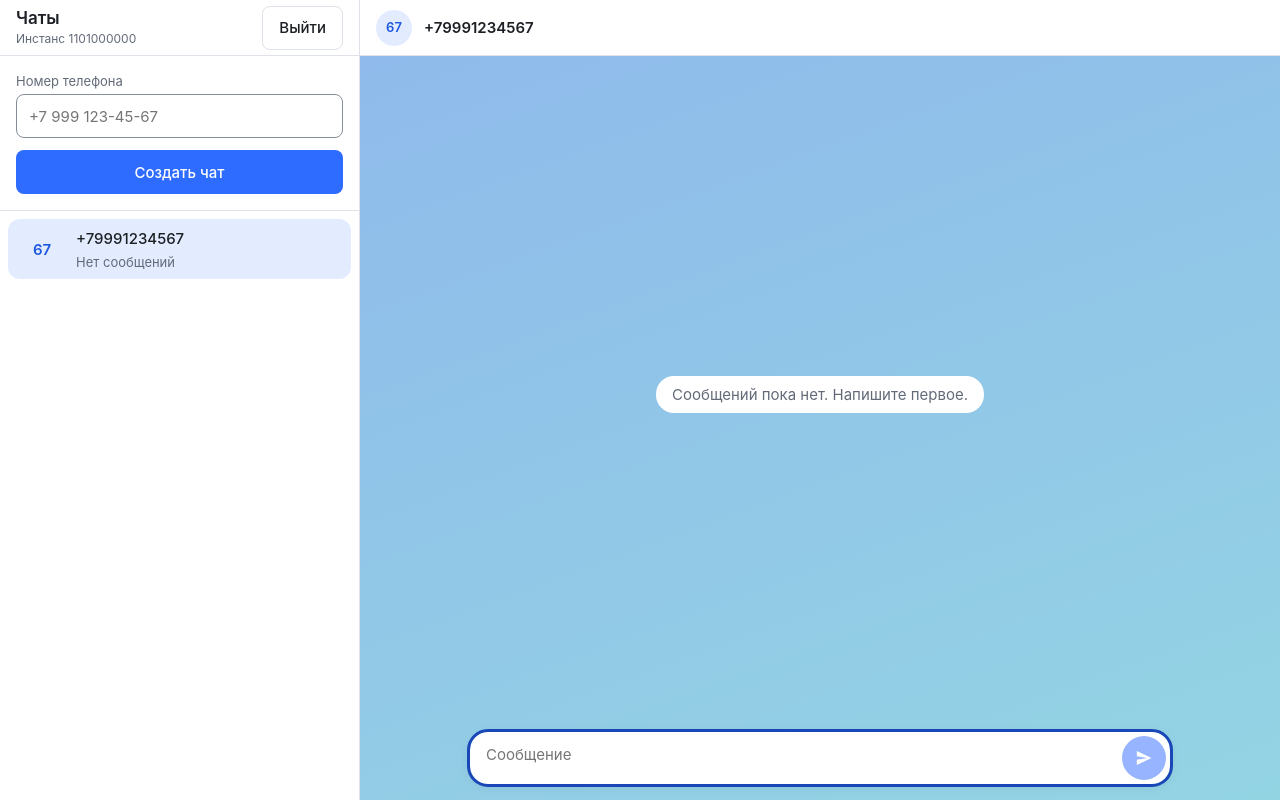
Test: ChatPage: отправка › ошибка отправки → текст в role=alert, набранный текст не потерян
Step 1. Type "Привет" into the text box labelled "Сообщение" → (794, 758), box left=474, top=736, right=1114, bottom=780
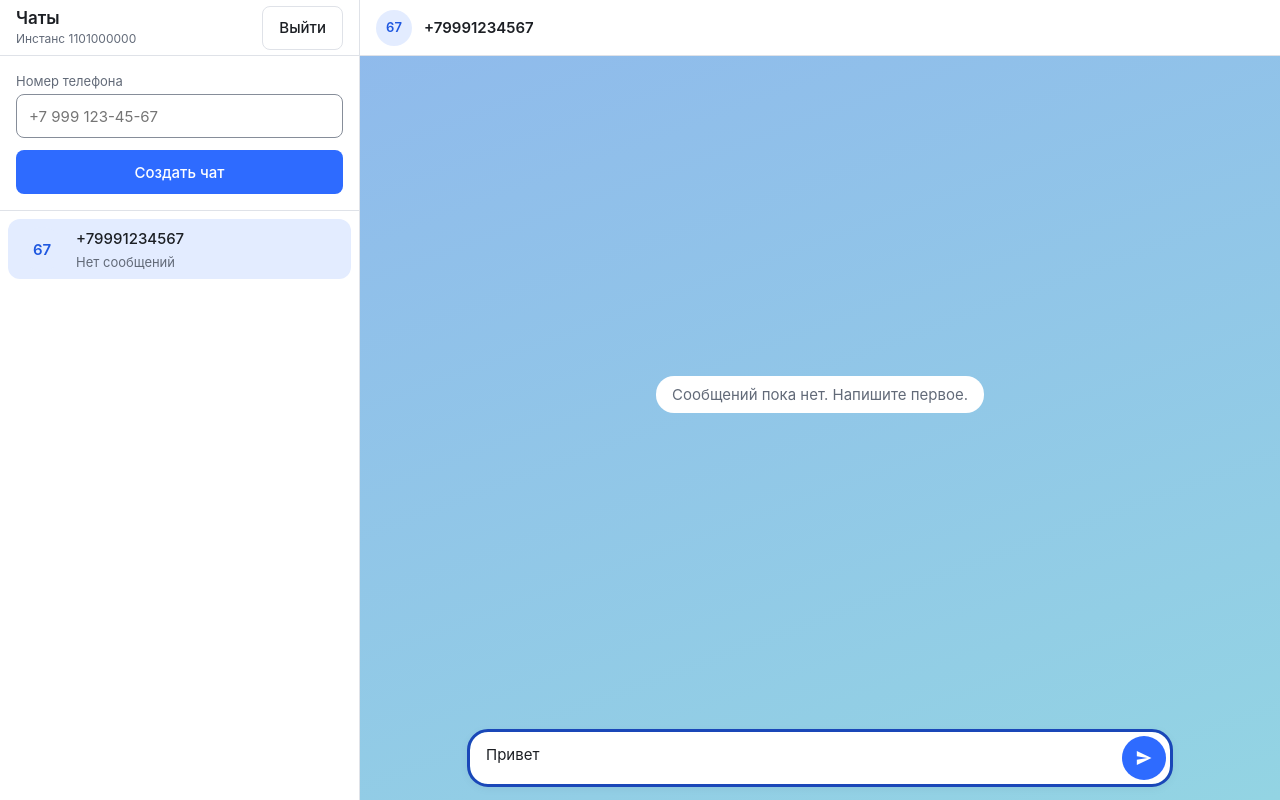
Step 2. Click the button named "Отправить" → (1144, 758), box left=1122, top=736, right=1166, bottom=780
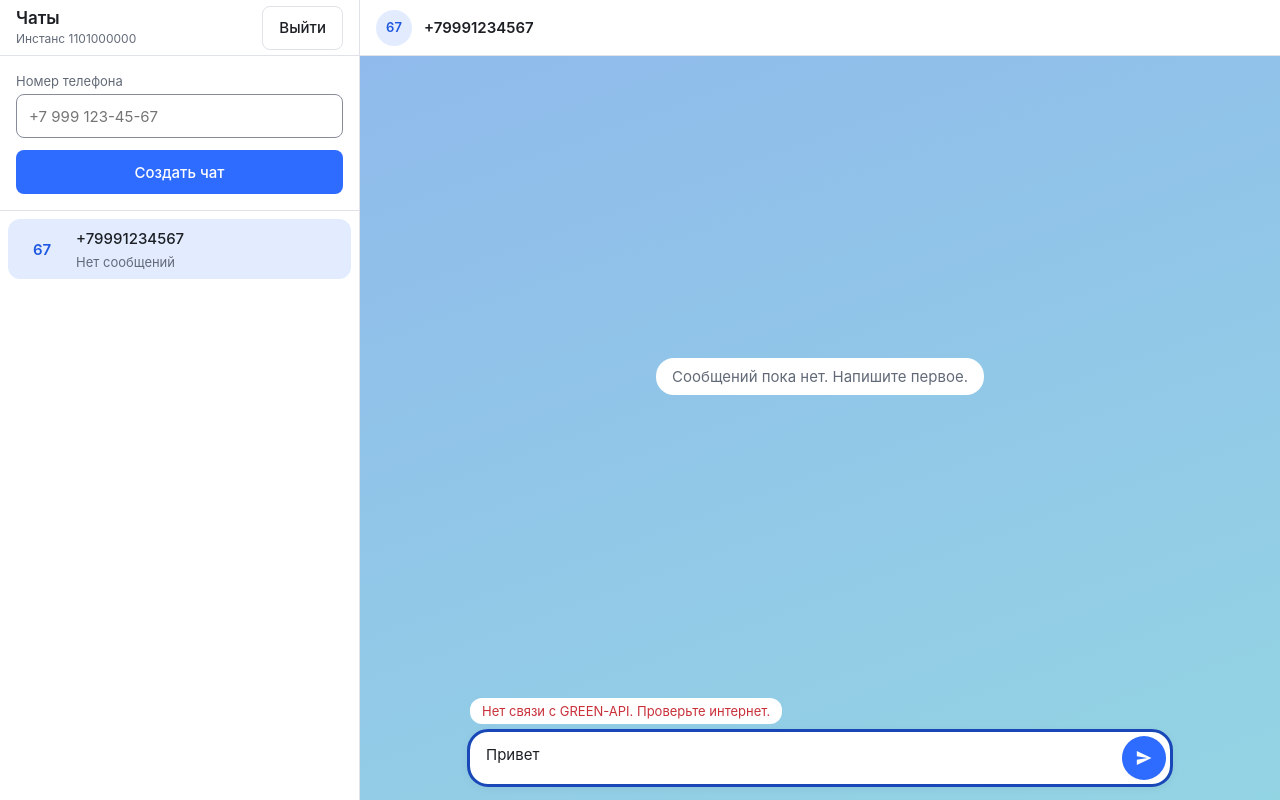
expect the text "Сообщений пока нет. Напишите первое." is shown: met, box left=656, top=358, right=984, bottom=395
expect the message shows "Нет связи с GREEN-API": met, box left=482, top=703, right=770, bottom=719
